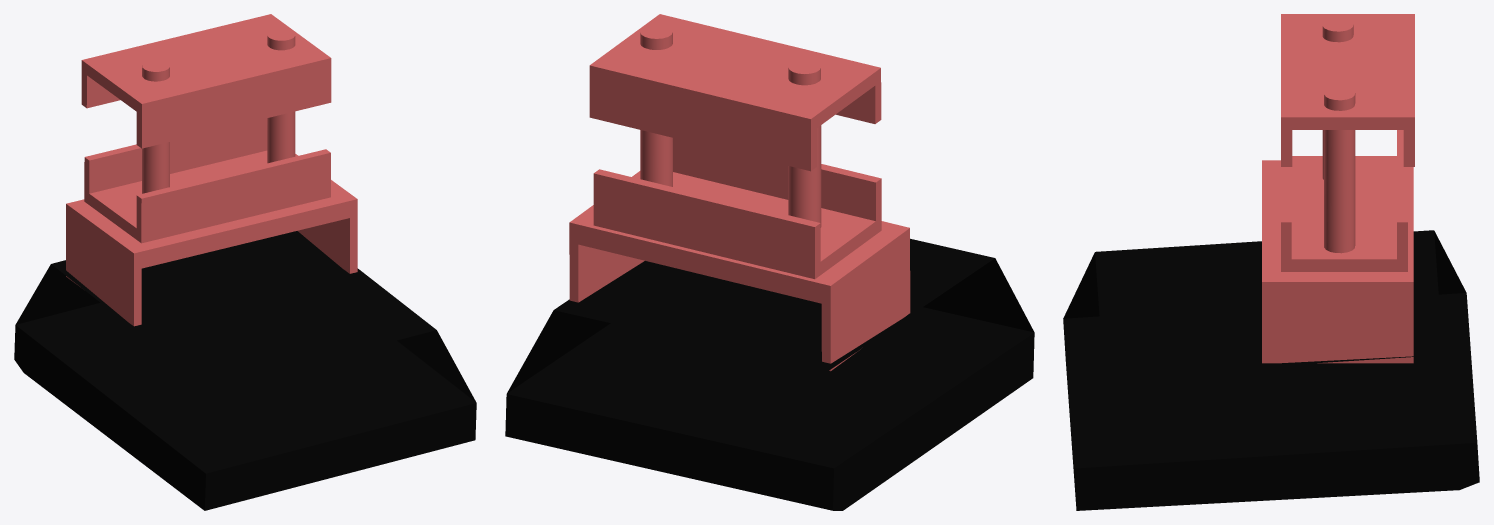
File: RRU1.glb
The picture shows the model from 3 angles, left to right: view 1: azimuth 30°, elevation 25°; view 2: azimuth 150°, elevation 25°; view 3: azimuth 270°, elevation 25°; orthographic projection. The views are drawn at different scales.
Size of the model in its own units: 0.3253 by 0.3681 by 0.3696.
